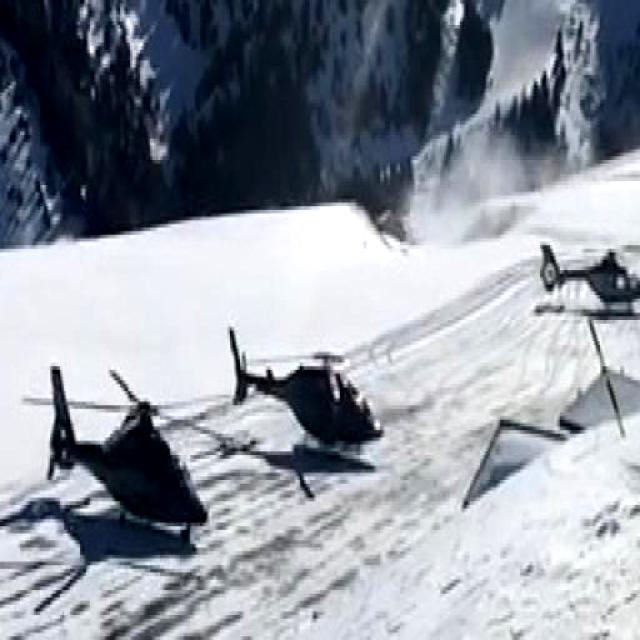drone: (29, 348, 211, 551), (224, 318, 384, 464), (534, 222, 640, 305)
